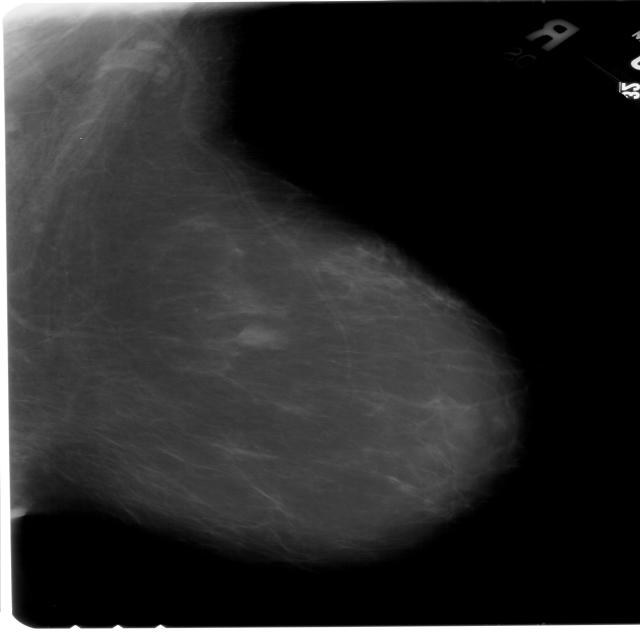normal: (0, 0, 536, 582)
